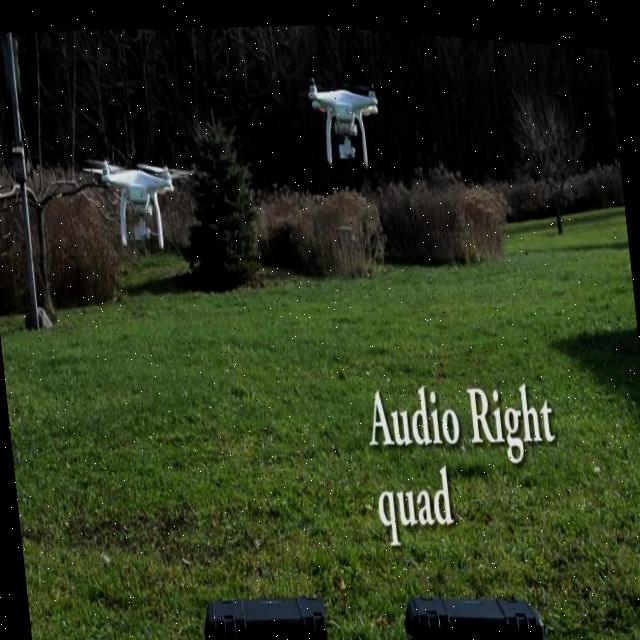drone: (78, 141, 206, 256), (303, 58, 386, 169)
